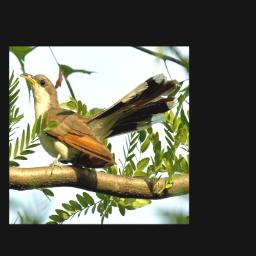Cuckoo: (20, 73, 179, 171)
